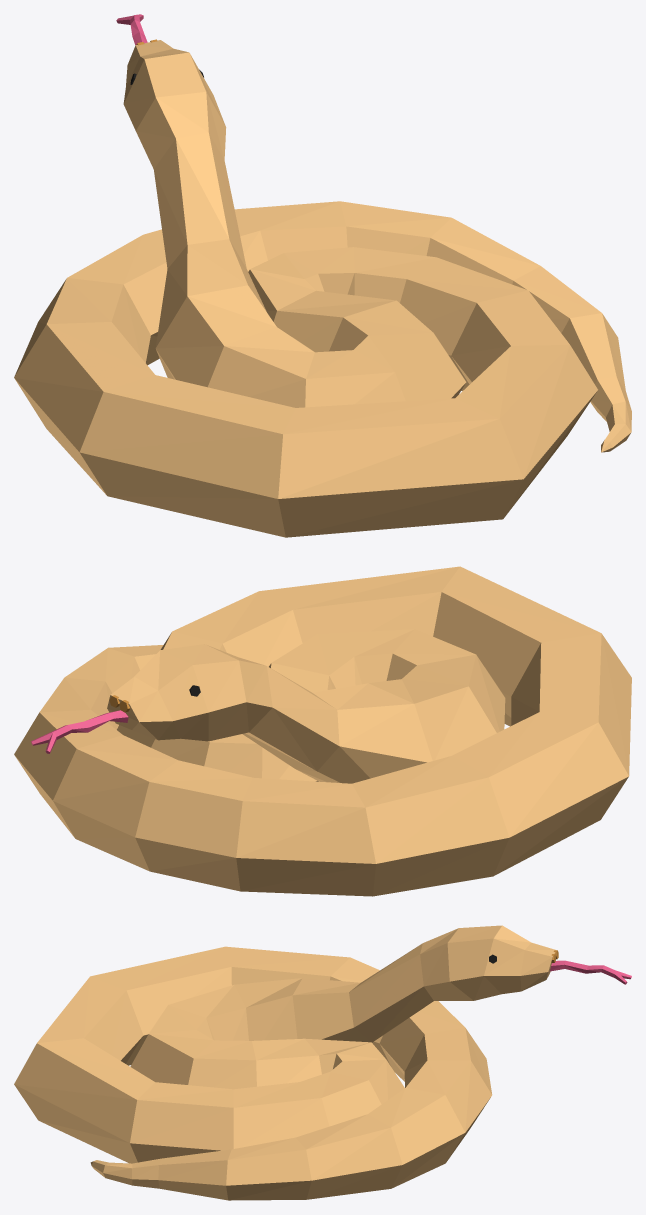
The model's file is Snake.fbx.
3 views of the same model, one above another, from view 1: azimuth 30°, elevation 25°; view 2: azimuth 150°, elevation 25°; view 3: azimuth 270°, elevation 25° (orthographic). The views are drawn at different scales.
Visible parts, largest first — view 1: group_2142745760; view 2: group_2142745760, group_1742473196; view 3: group_2142745760, group_1742473196.
Boxes of the visible parts, x1,y1,x2,y2 form: group_2142745760: (14, 40, 631, 537); group_2142745760: (14, 566, 631, 896); group_1742473196: (31, 710, 128, 753); group_2142745760: (14, 925, 556, 1200); group_1742473196: (549, 960, 631, 984).
Bounding box in the file's own units: 100 × 43.82 × 134.
